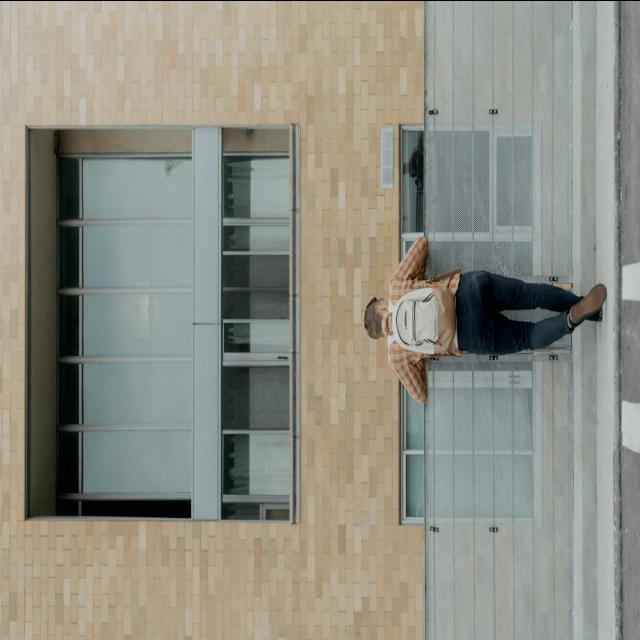backpack: (389, 283, 459, 357)
